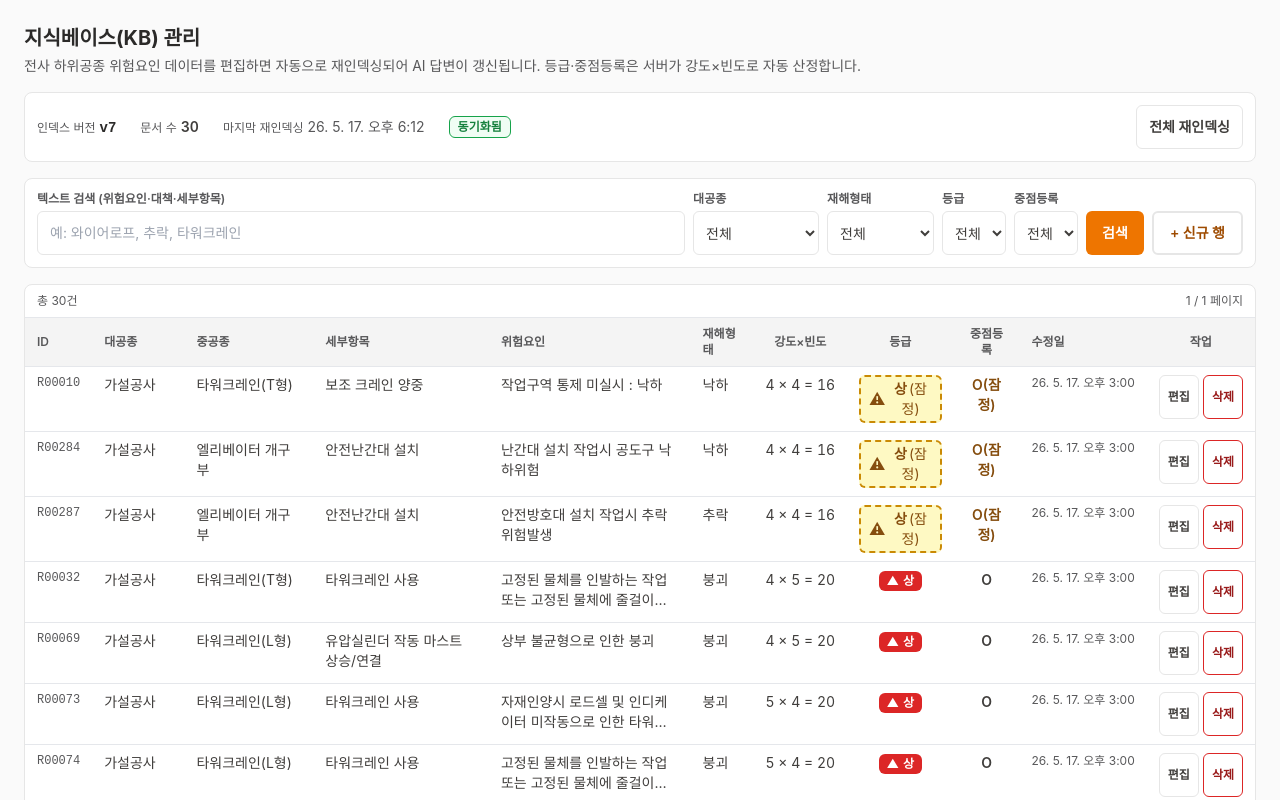
Scenario: KB 관리 화면 › 삭제 확인 다이얼로그는 소프트 삭제 안내를 표시한다
Expected: the row with test id "kb-row" that starts with "R00010" is shown, [25,366,1255,432]
Click the button "삭제" in the row of "R00010" at x=1223, y=397, box [1203,375,1243,419]
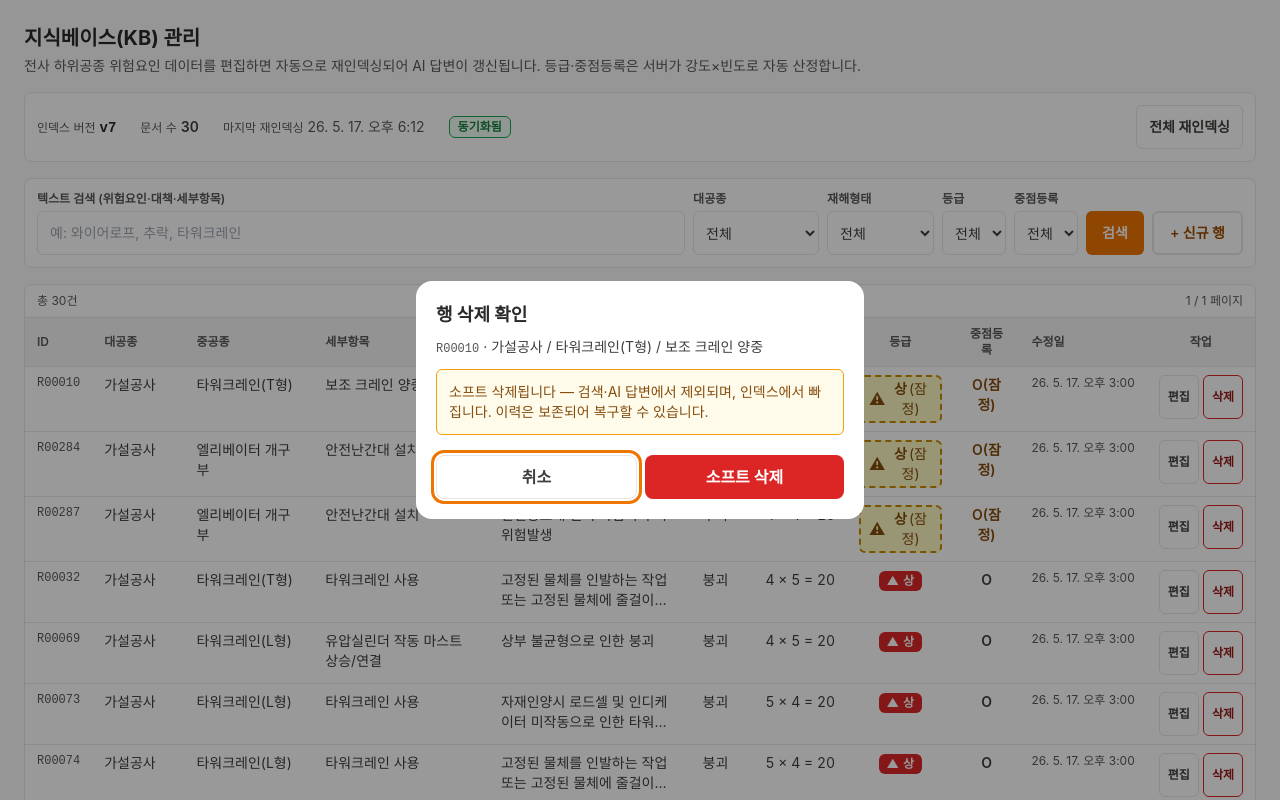
Expected: the dialog with test id "kb-delete-dialog" shows "소프트 삭제", [645,455,844,499]
Expected: the dialog with test id "kb-delete-dialog" shows "복구", [416,281,864,519]
